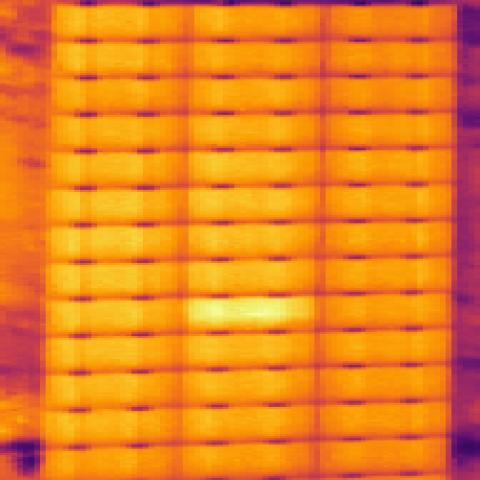fault: (188, 299, 292, 320)
